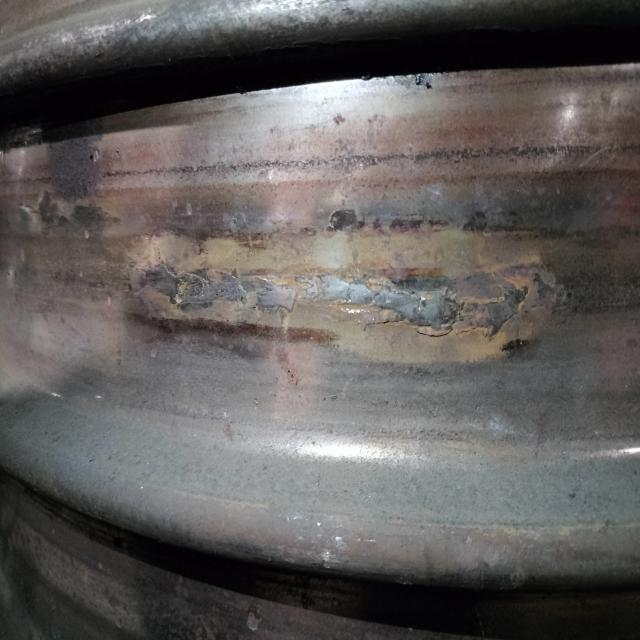flat: (28, 214, 566, 379)
